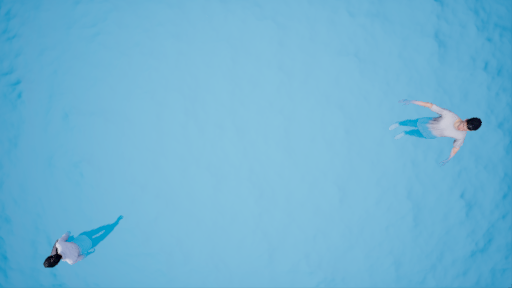person: (40, 214, 134, 271), (398, 98, 478, 160)
